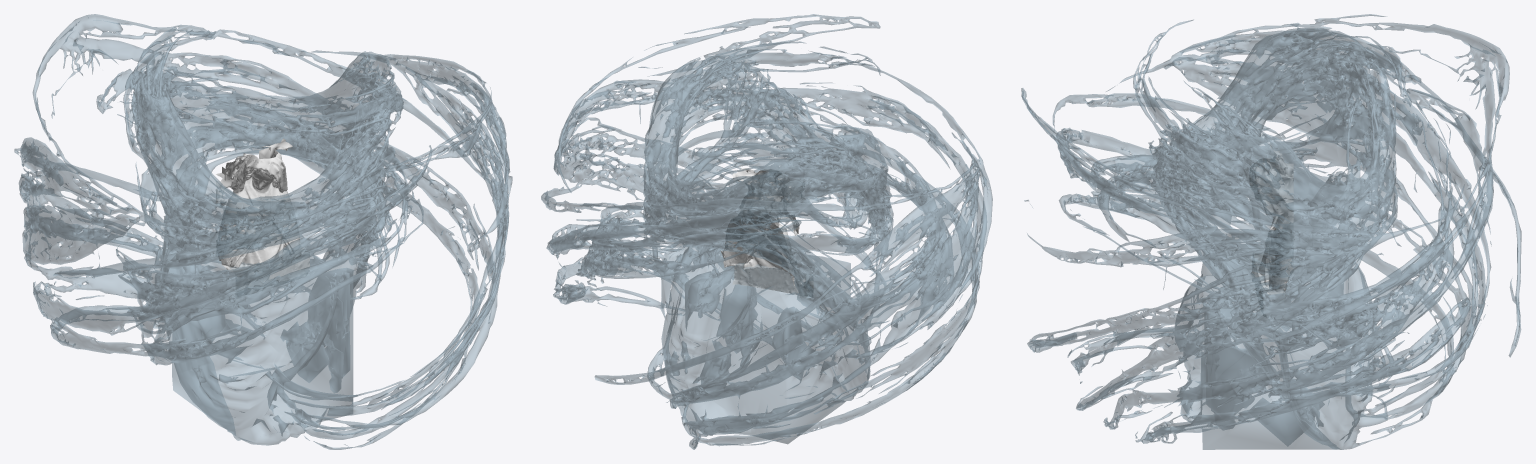
Rendered from project3.glb.
The picture shows the model from 3 angles, left to right: view 1: azimuth 30°, elevation 25°; view 2: azimuth 150°, elevation 25°; view 3: azimuth 270°, elevation 25°; orthographic projection. The views are drawn at different scales.
Visible parts, largest first — view 1: 03Dóró Elizabet/Kliszek Viktória; view 2: 03Dóró Elizabet/Kliszek Viktória; view 3: 03Dóró Elizabet/Kliszek Viktória.
Boxes of the visible parts, left/top/right/bottom form: 03Dóró Elizabet/Kliszek Viktória: left=14, top=14, right=512, bottom=449; 03Dóró Elizabet/Kliszek Viktória: left=541, top=14, right=992, bottom=449; 03Dóró Elizabet/Kliszek Viktória: left=1021, top=14, right=1521, bottom=449.
Size of the model in its own units: 2 by 1.61 by 1.98.
